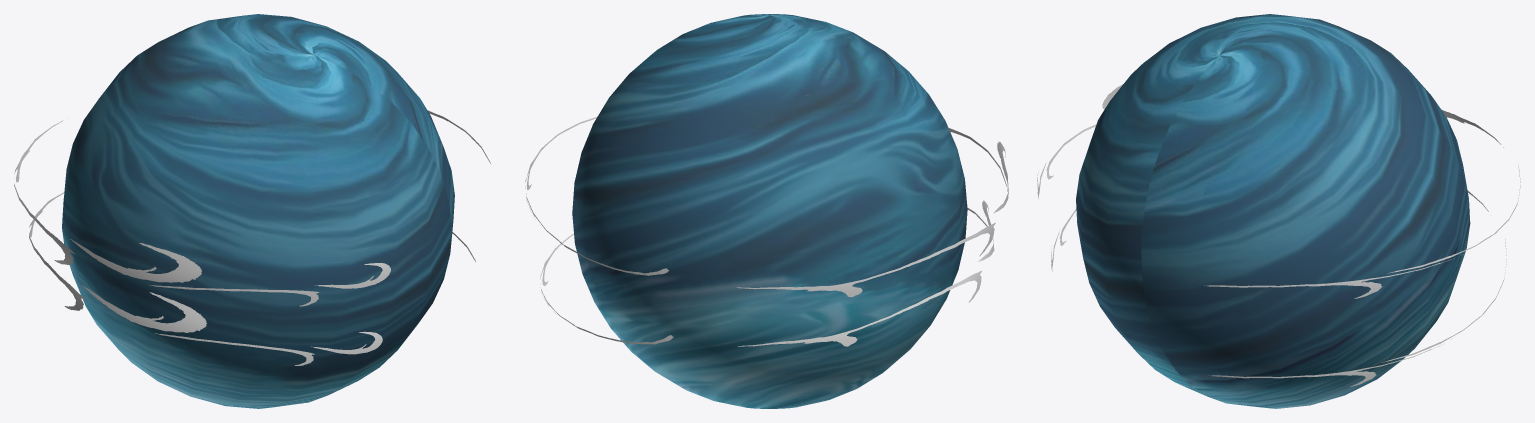
File: Oxygen Combine no text.fbx
3 renders of one model, left to right at view 1: azimuth 30°, elevation 25°; view 2: azimuth 150°, elevation 25°; view 3: azimuth 270°, elevation 25°, orthographic.
Parts seen in each view (by area): view 1: Oxygen2; view 2: Oxygen2; view 3: Oxygen2.
Boxes of the visible parts, x1=… form: Oxygen2: x1=14, y1=14, x2=490, y2=408; Oxygen2: x1=525, y1=14, x2=1008, y2=408; Oxygen2: x1=1037, y1=14, x2=1520, y2=408.
Bounding box in the file's own units: 2.45 × 2 × 2.45.
1 material, 1 textured.
